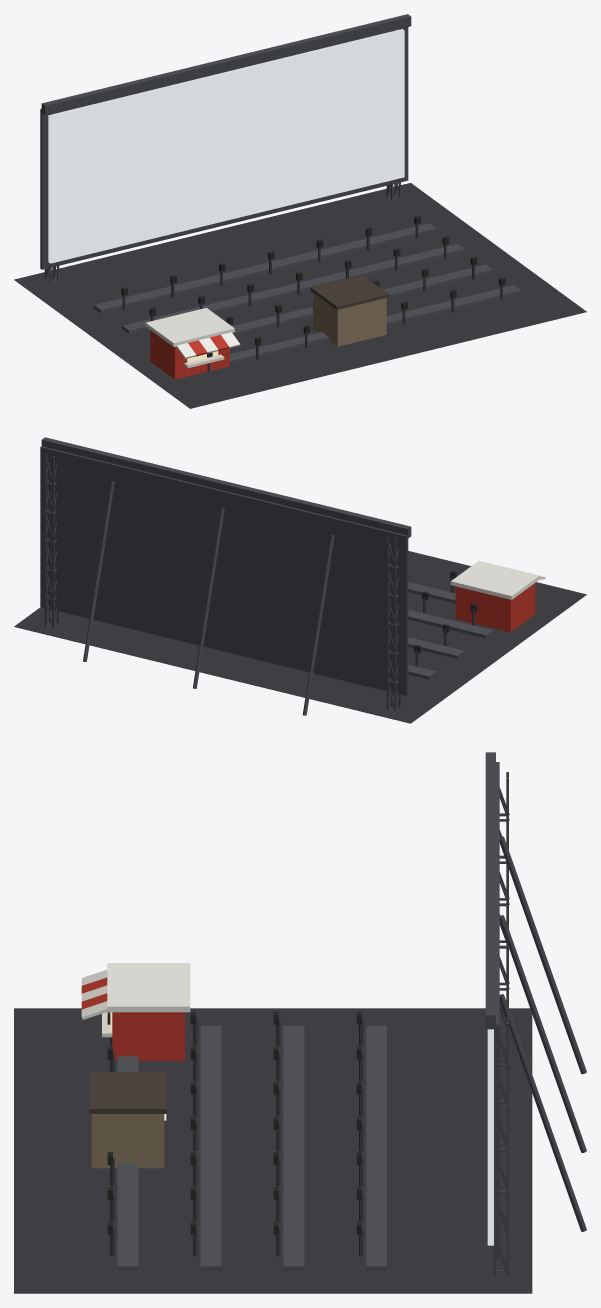
Rendered from drive-in.glb.
3 renders of one model, top to bottom at view 1: azimuth 30°, elevation 25°; view 2: azimuth 150°, elevation 25°; view 3: azimuth 270°, elevation 25°, orthographic. The views are drawn at different scales.
Visible parts, largest first — view 1: part-screen, part-lot, part-hump, part-screen-frame, part-booth, part-snack-roof, part-roof, part-snack, part-speaker, part-post, part-stripe-white; view 2: part-screen-frame, part-lot, part-snack, part-hump, part-snack-roof; view 3: part-lot, part-hump, part-screen-frame, part-snack-roof, part-booth, part-snack, part-roof, part-post, part-speaker, part-screen, part-stripe-white.
Part boxes in pixels (x1,y1,x2,y2): part-screen: [48, 29, 404, 263]; part-lot: [14, 183, 586, 408]; part-hump: [94, 223, 521, 364]; part-screen-frame: [40, 14, 411, 283]; part-booth: [313, 292, 386, 346]; part-snack-roof: [145, 308, 234, 346]; part-roof: [310, 275, 388, 309]; part-snack: [150, 330, 229, 379]; part-speaker: [121, 215, 505, 357]; part-post: [122, 224, 502, 371]; part-stripe-white: [176, 332, 240, 358]; part-screen-frame: [40, 437, 411, 715]; part-lot: [14, 551, 586, 723]; part-snack: [455, 583, 535, 632]; part-hump: [408, 582, 492, 679]; part-snack-roof: [450, 560, 539, 599]; part-lot: [14, 1008, 532, 1293]; part-hump: [117, 1025, 386, 1270]; part-screen-frame: [485, 752, 586, 1276]; part-snack-roof: [107, 963, 190, 1012]; part-booth: [91, 1114, 164, 1168]; part-snack: [112, 1012, 184, 1060]; part-roof: [89, 1072, 166, 1113]; part-post: [110, 1017, 363, 1256]; part-speaker: [107, 1011, 361, 1234]; part-screen: [487, 1029, 493, 1245]; part-stripe-white: [81, 969, 107, 1019].
Size of the model in its own units: 130 by 57.19 by 111.
